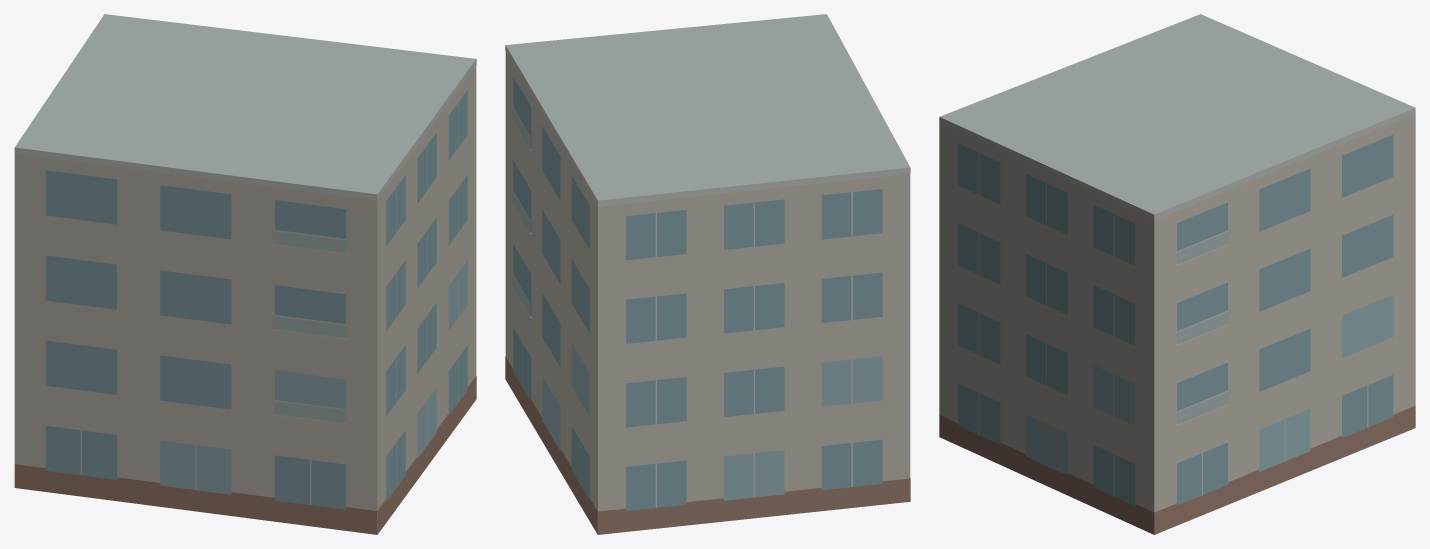
Rendered from survey-upis-32744159.glb.
The picture shows the model from 3 angles, left to right: view 1: azimuth 30°, elevation 25°; view 2: azimuth 150°, elevation 25°; view 3: azimuth 270°, elevation 25°; orthographic projection. The views are drawn at different scales.
Parts seen in each view (by area): view 1: survey-upis-32744159.tmp; view 2: survey-upis-32744159.tmp; view 3: survey-upis-32744159.tmp.
Part boxes in pixels (x1,y1,x2,y2): survey-upis-32744159.tmp: (14,14,476,534); survey-upis-32744159.tmp: (505,14,910,534); survey-upis-32744159.tmp: (939,14,1415,534).
Bounding box in the file's own units: 17.88 × 13.3 × 17.93.
